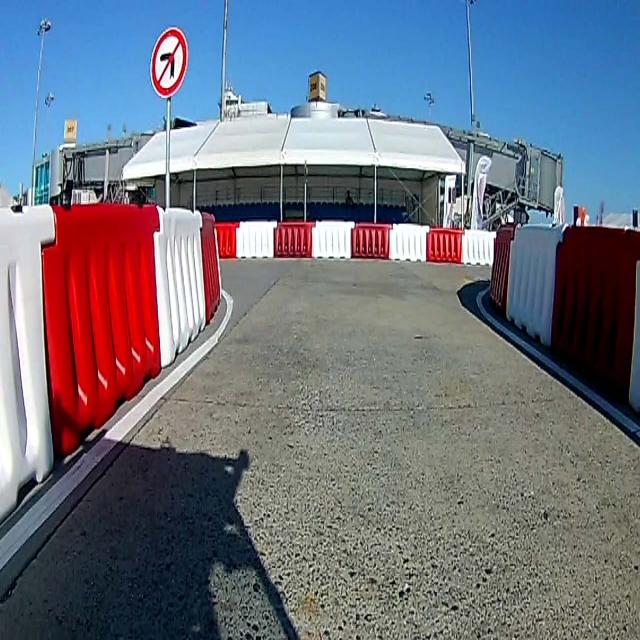soladonulmez: (149, 26, 189, 91)
